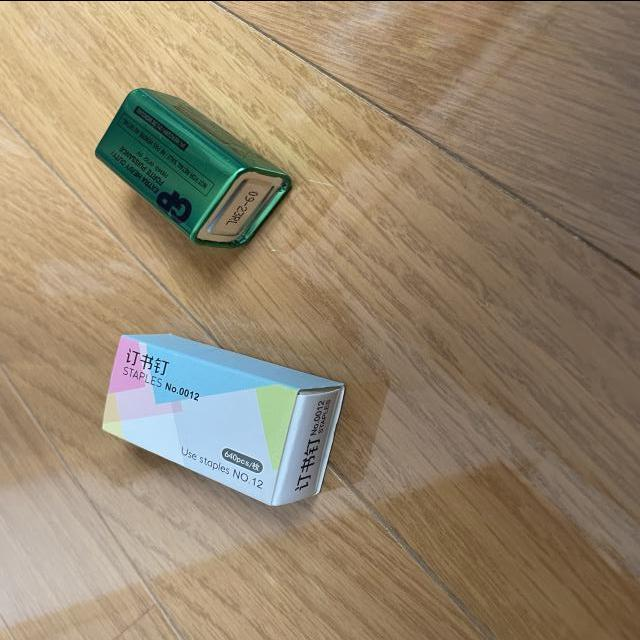9V: (94, 86, 293, 248)
